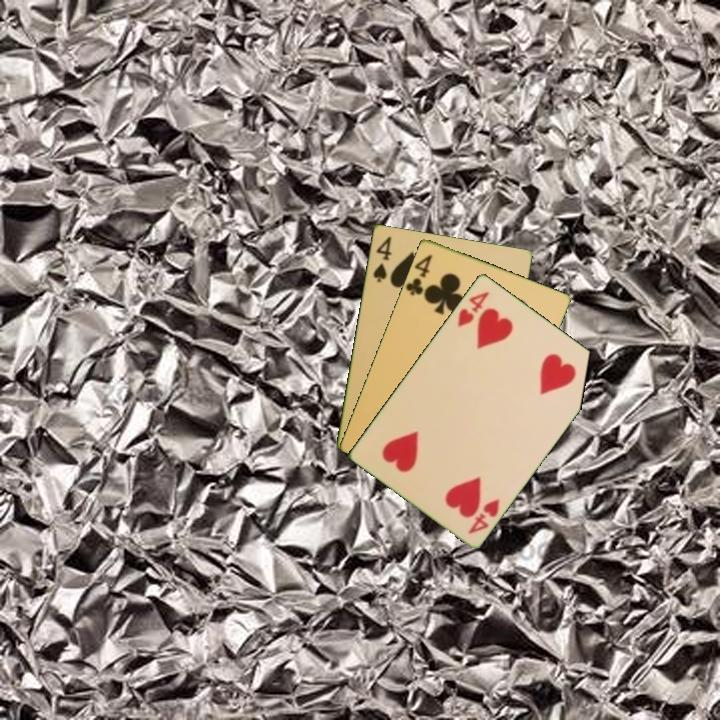4c: (402, 250, 435, 298)
4h: (454, 287, 492, 330), (464, 495, 502, 537)
4s: (369, 232, 394, 285)
